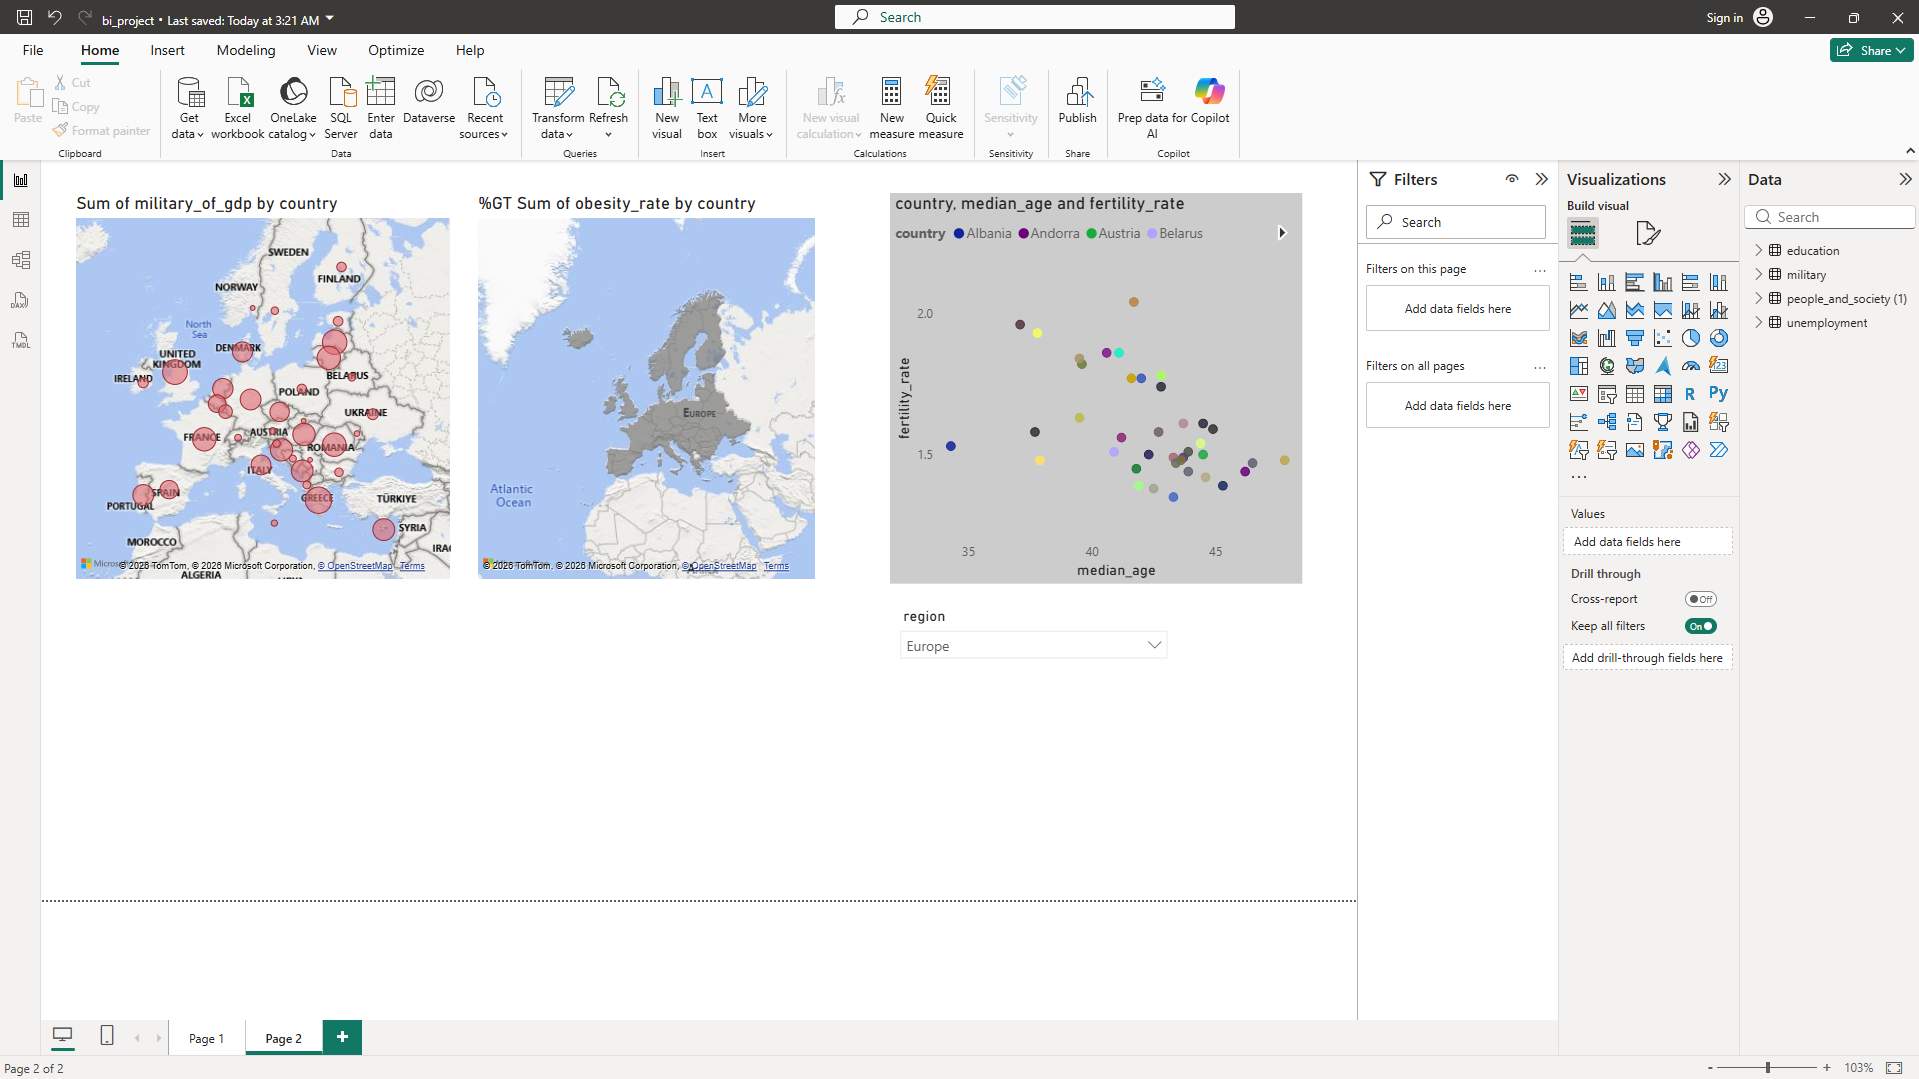

The page's visual inventory and layout, read from the dashboard file:
{"tool":"powerbi","page":{"name":"Page 2","canvas":[1280,720],"ordinal":1},"visuals":[{"type":"map","fields":{"Category":["people_and_society (1).country"],"Size":["Sum(military.military_of_gdp)"]},"box":[29.2,32.1,280.1,280.1],"z":0},{"type":"filledMap","fields":{"Category":["people_and_society (1).country"]},"box":[420.2,32.1,280.1,280.1],"z":1000},{"type":"slicer","fields":{"Values":["people_and_society (1).region"]},"box":[825.8,429.9,280.1,64.2],"z":2000},{"type":"scatterChart","fields":{"Y":["people_and_society (1).fertility_rate"],"X":["people_and_society (1).median_age"],"Series":["people_and_society (1).country"]},"box":[825.8,32.1,280.1,280.1],"z":2001}]}

Visuals, with their boxes on the page's 1280x720 design canvas (x1, y1, x2, y2). These are canvas units, not pixel positions in the 1919x1079 screenshot, which may show the page scaled, cropped or inside an application window:
map - people_and_society (1).country x Sum(military.military_of_gdp): bbox=(29, 32, 309, 312)
filledMap - people_and_society (1).country: bbox=(420, 32, 700, 312)
slicer - people_and_society (1).region: bbox=(826, 430, 1106, 494)
scatterChart - people_and_society (1).fertility_rate x people_and_society (1).median_age: bbox=(826, 32, 1106, 312)
